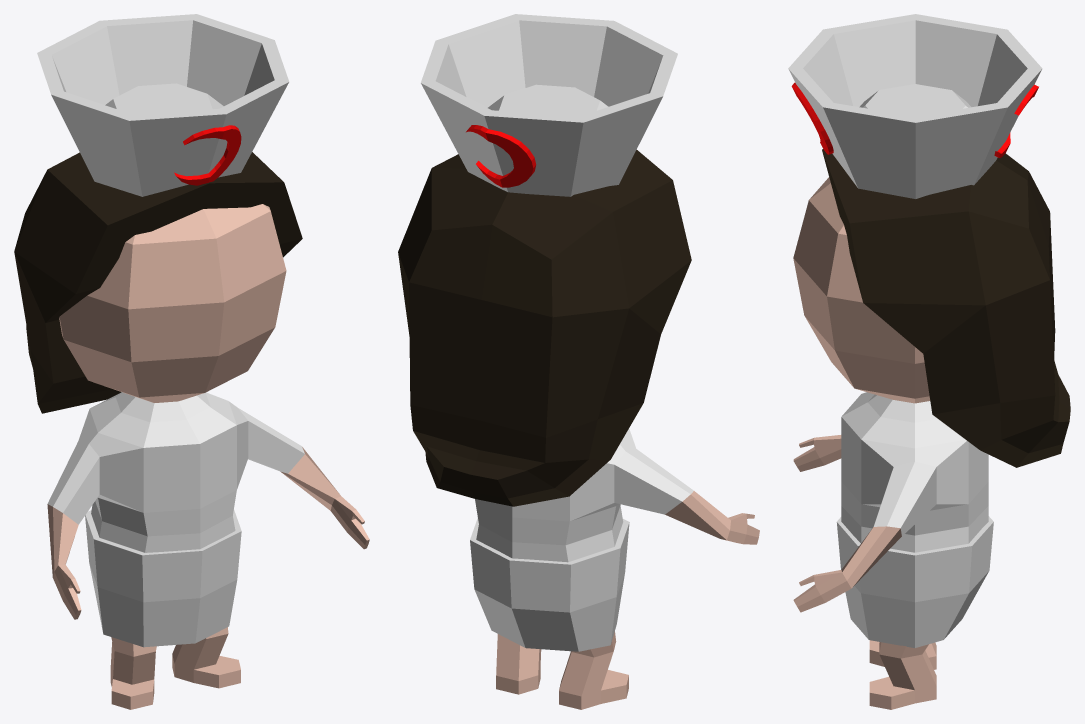
File: Hemşire kadın.fbx
3 views of the same model, side by side, from view 1: azimuth 30°, elevation 25°; view 2: azimuth 150°, elevation 25°; view 3: azimuth 270°, elevation 25° (orthographic). The views are drawn at different scales.
Parts seen in each view (by area): view 1: Karakter; view 2: Karakter; view 3: Karakter.
Boxes of the visible parts, box(x1,y1,x2,y2) form: Karakter: box(14, 14, 369, 709); Karakter: box(398, 14, 759, 709); Karakter: box(788, 14, 1070, 709).
Size of the model in its own units: 157 by 313 by 131.
